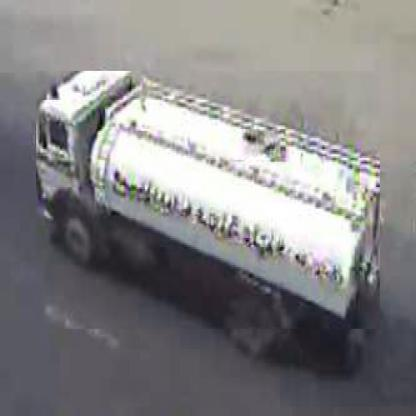truck: (37, 72, 382, 332)
